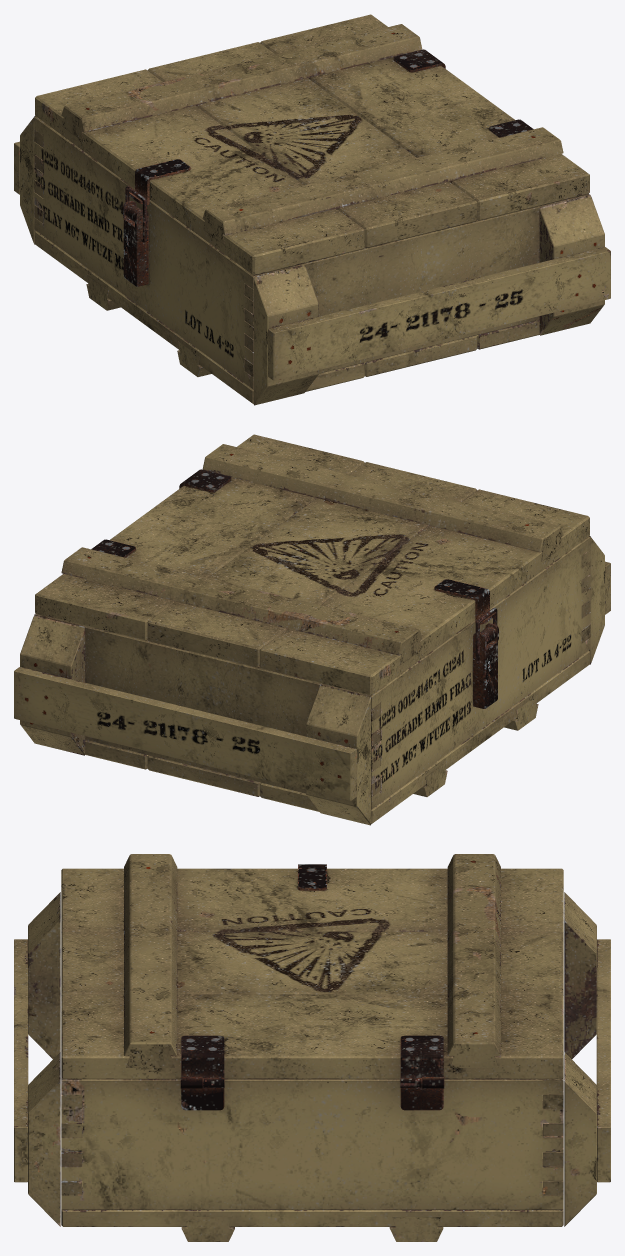
File: military crate frag.fbx
3 views of the same model, one above another, from view 1: azimuth 30°, elevation 25°; view 2: azimuth 150°, elevation 25°; view 3: azimuth 270°, elevation 25° (orthographic). The views are drawn at different scales.
Parts seen in each view (by area): view 1: frag; view 2: frag; view 3: frag.
Boxes of the visible parts, x1,y1,x2,y2 form: frag: (14,14,610,405); frag: (14,434,610,825); frag: (14,854,610,1241).
Size of the model in its own units: 31.85 by 14.75 by 40.06.
Materials: 1 (1 with a texture image).
